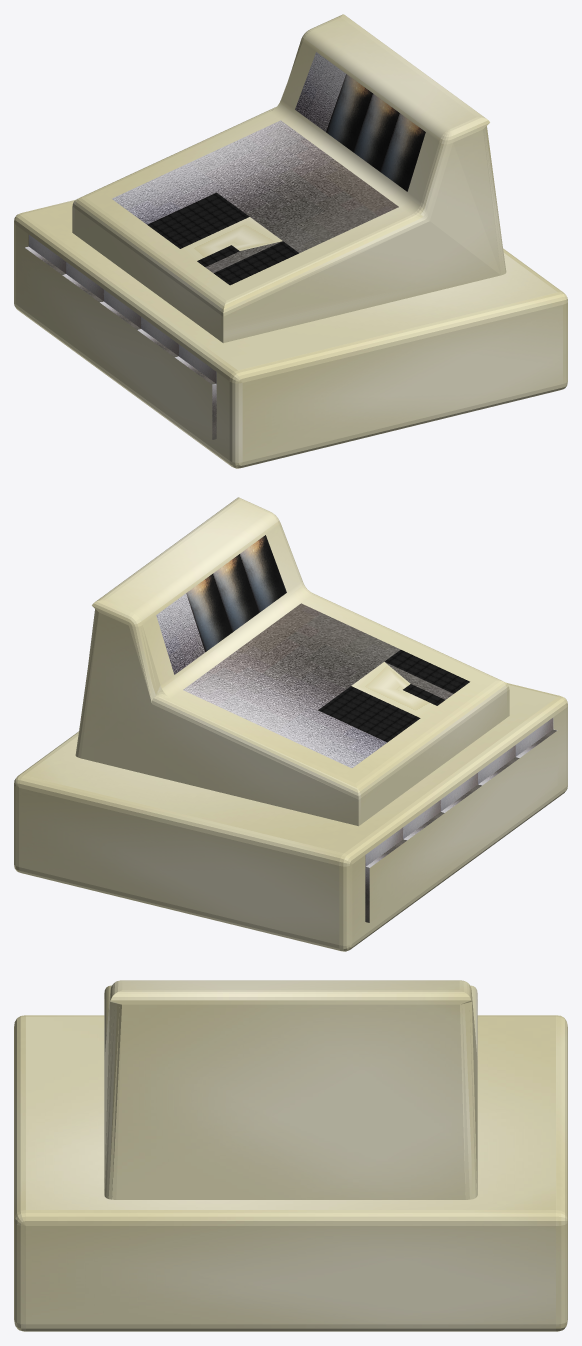
The model's file is Registradora.FBX.
3 views of the same model, one above another, from view 1: azimuth 30°, elevation 25°; view 2: azimuth 150°, elevation 25°; view 3: azimuth 270°, elevation 25° (orthographic). The views are drawn at different scales.
Parts seen in each view (by area): view 1: TeclasPantalla, Deposito; view 2: TeclasPantalla, Deposito; view 3: Deposito, TeclasPantalla.
Part boxes in pixels (<box>): TeclasPantalla: <box>72,14,506,342</box>; Deposito: <box>14,199,567,468</box>; TeclasPantalla: <box>75,497,509,826</box>; Deposito: <box>14,682,567,951</box>; Deposito: <box>14,1015,567,1331</box>; TeclasPantalla: <box>104,980,477,1199</box>.
Size of the model in its own units: 15.94 by 11.35 by 18.11.
Materials: 4 (4 with a texture image).
